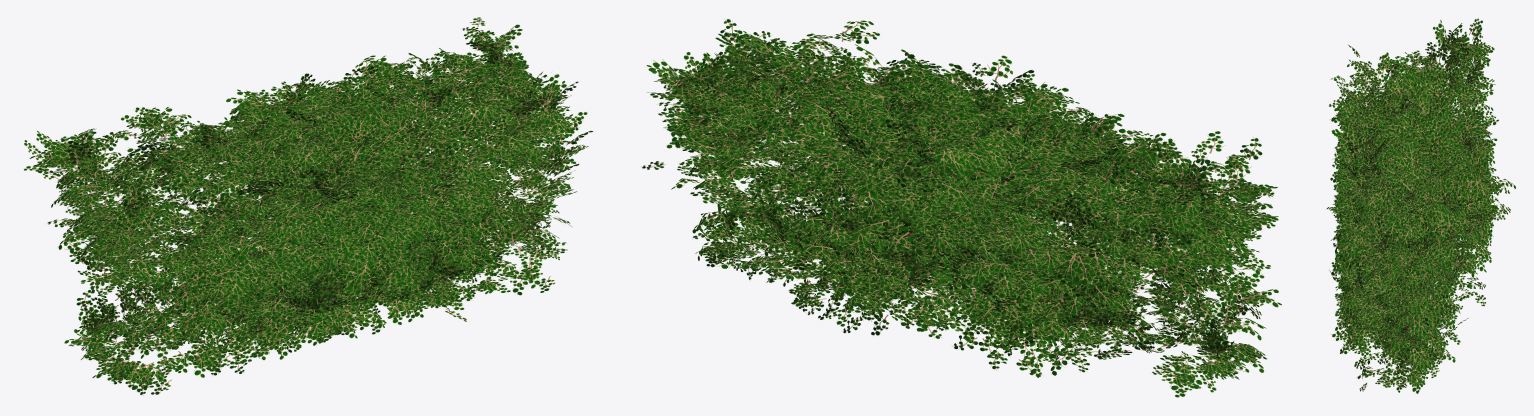
File: hedgeRow.glb
3 views of the same model, side by side, from view 1: azimuth 30°, elevation 25°; view 2: azimuth 150°, elevation 25°; view 3: azimuth 270°, elevation 25° (orthographic). The views are drawn at different scales.
Visible parts, largest first — view 1: LC2.004, LC1.004; view 2: LC2.004, LC1.004; view 3: LC2.004, LC1.004.
Part boxes in pixels (box(x1,y1,x2,y2)): LC2.004: box(24, 17, 592, 394); LC1.004: box(33, 26, 585, 395); LC2.004: box(646, 20, 1281, 397); LC1.004: box(642, 19, 1275, 379); LC2.004: box(1326, 18, 1515, 393); LC1.004: box(1329, 28, 1510, 386).
Size of the model in its own units: 8.02 by 3.5 by 3.01.
Materials: 2 (2 with a texture image).
